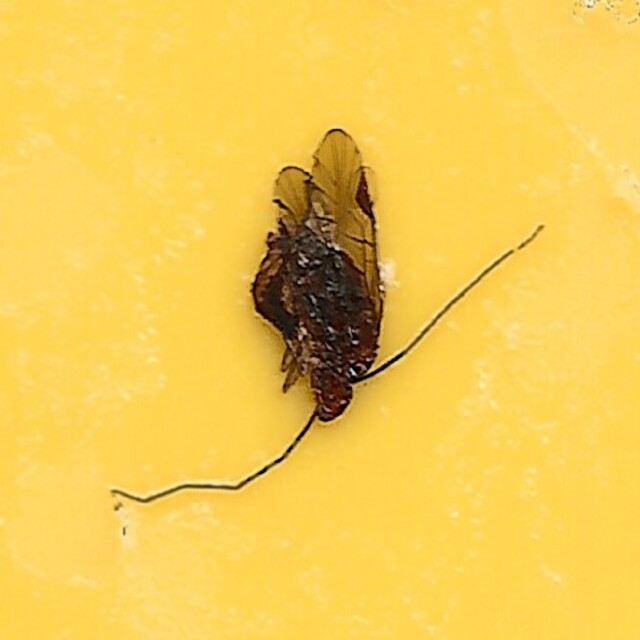Psocoptera: (97, 130, 543, 510)
